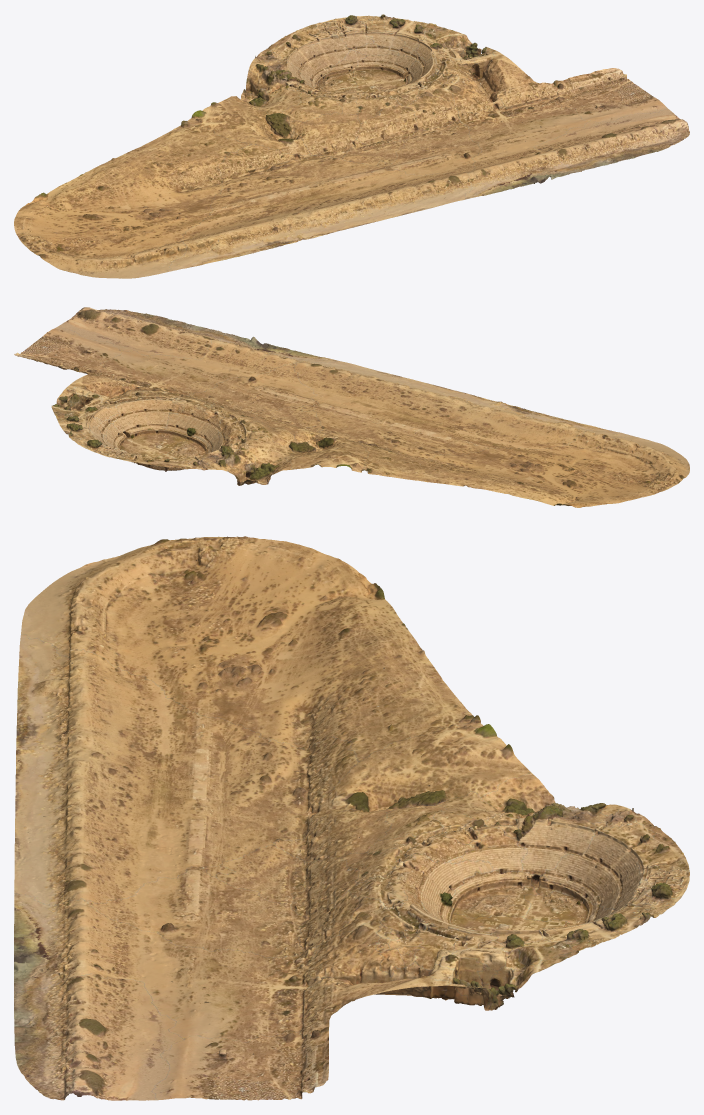
3 views of the same model, one above another, from view 1: azimuth 30°, elevation 25°; view 2: azimuth 150°, elevation 25°; view 3: azimuth 270°, elevation 25° (orthographic). The views are drawn at different scales.
Parts seen in each view (by area): view 1: LBY_002_M12_AmphiteatreCircus; view 2: LBY_002_M12_AmphiteatreCircus; view 3: LBY_002_M12_AmphiteatreCircus.
Part boxes in pixels (x1=…): LBY_002_M12_AmphiteatreCircus: x1=14, y1=14, x2=689, y2=278; LBY_002_M12_AmphiteatreCircus: x1=14, y1=307, x2=689, y2=507; LBY_002_M12_AmphiteatreCircus: x1=14, y1=536, x2=689, y2=1100.
Size of the model in its own units: 463 by 27.82 by 238.
1 material, 1 textured.
